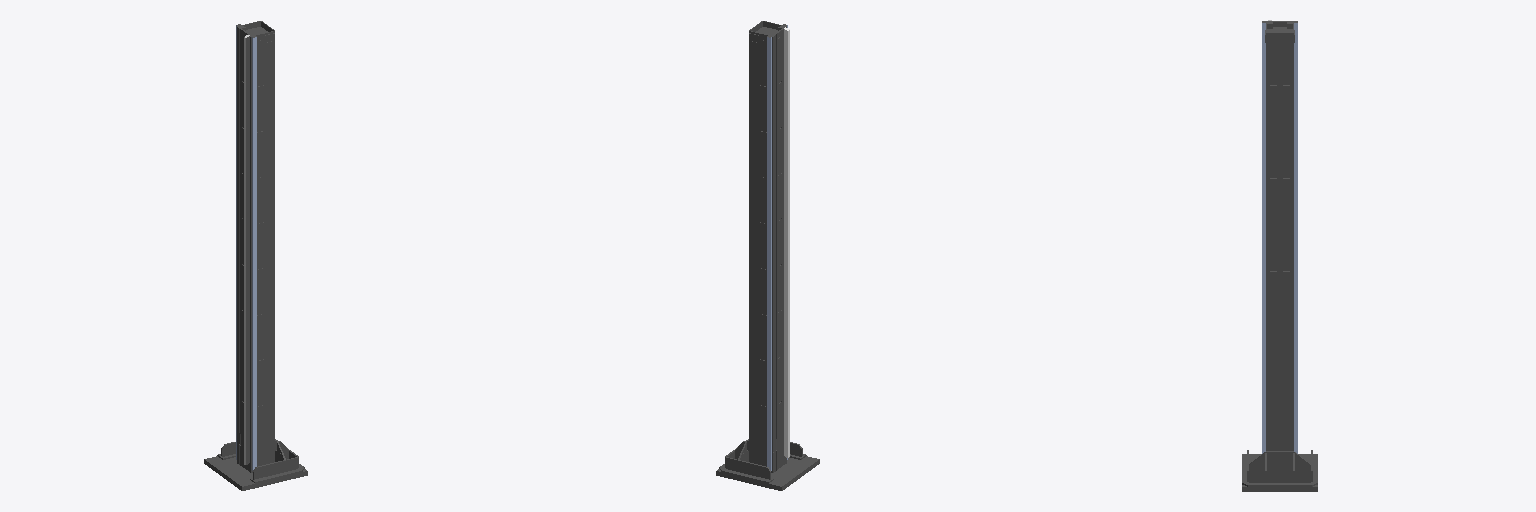
The robot description file, URDF, robot "mimic_slave":
<?xml version="1.0" ?>
<!-- =================================================================================== -->
<!-- |    This document was autogenerated by xacro from src/mimic_support/urdf/slave.xacro | -->
<!-- |    EDITING THIS FILE BY HAND IS NOT RECOMMENDED                                 | -->
<!-- =================================================================================== -->
<robot name="mimic_slave">
  <!-- LINKS -->
  <link name="gantry_frame">
    <visual>
      <origin rpy="0 0 0" xyz="0 0 0"/>
      <geometry>
        <mesh filename="package://mimic_support/meshes/visual/gantry_fixed.dae"/>
      </geometry>
    </visual>
    <collision>
      <origin rpy="0 0 0" xyz="0 0 0"/>
      <geometry>
        <mesh filename="package://mimic_support/meshes/collision/gantry_fixed.stl"/>
      </geometry>
    </collision>
  </link>
  <link name="gantry_x">
    <inertial>
      <origin rpy="0 0 0" xyz="0 0 0"/>
      <mass value="2"/>
      <inertia ixx="0.01" ixy="0" ixz="0" iyy="0.01" iyz="0" izz="0.01"/>
    </inertial>
    <visual>
      <origin rpy="0 0 0" xyz="0 0 0"/>
      <geometry>
        <mesh filename="package://mimic_support/meshes/visual/gantry_x.dae"/>
      </geometry>
    </visual>
    <collision>
      <origin rpy="0 0 0" xyz="0 0 0"/>
      <geometry>
        <mesh filename="package://mimic_support/meshes/collision/gantry_x.stl"/>
      </geometry>
    </collision>
  </link>
  <link name="gantry_y">
    <inertial>
      <origin rpy="0 0 0" xyz="0 0 0"/>
      <mass value="2"/>
      <inertia ixx="0.01" ixy="0" ixz="0" iyy="0.01" iyz="0" izz="0.01"/>
    </inertial>
    <visual>
      <origin rpy="0 0 0" xyz="0 0 0"/>
      <geometry>
        <mesh filename="package://mimic_support/meshes/visual/gantry_y.dae"/>
      </geometry>
    </visual>
    <collision>
      <origin rpy="0 0 0" xyz="0 0 0"/>
      <geometry>
        <mesh filename="package://mimic_support/meshes/collision/gantry_y.stl"/>
      </geometry>
    </collision>
  </link>
  <link name="gantry_z">
    <inertial>
      <origin rpy="0 0 0" xyz="0 0 0"/>
      <mass value="2"/>
      <inertia ixx="0.01" ixy="0" ixz="0" iyy="0.01" iyz="0" izz="0.01"/>
    </inertial>
    <visual>
      <origin rpy="0 0 0" xyz="0 0 0"/>
      <geometry>
        <mesh filename="package://mimic_support/meshes/visual/gantry_z.dae"/>
      </geometry>
    </visual>
    <collision>
      <origin rpy="0 0 0" xyz="0 0 0"/>
      <geometry>
        <mesh filename="package://mimic_support/meshes/collision/gantry_z.stl"/>
      </geometry>
    </collision>
  </link>
  <!-- JOINTS -->
  <!-- joint e1 (E1) -->
  <joint name="joint_e1" type="prismatic">
    <origin rpy="0 0 0" xyz="0.011 0 0"/>
    <parent link="gantry_frame"/>
    <child link="gantry_x"/>
    <axis xyz="1 0 0"/>
    <limit effort="12" lower="-0.011" upper="3.0" velocity="0.1"/>
  </joint>
  <joint name="joint_e2" type="prismatic">
    <origin rpy="0 0 0" xyz="0 0.015 0"/>
    <parent link="gantry_x"/>
    <child link="gantry_y"/>
    <axis xyz="0 1 0"/>
    <limit effort="25" lower="-0.015" upper="2.25" velocity="0.4"/>
  </joint>
  <joint name="joint_e3" type="prismatic">
    <origin rpy="0 0 0" xyz="0 0 0.011"/>
    <parent link="gantry_y"/>
    <child link="gantry_z"/>
    <axis xyz="0 0 -1"/>
    <limit effort="79" lower="-0.011" upper="2.6" velocity="0.1"/>
  </joint>
  <!-- LINKS -->
  <!-- base link -->
  <link name="base_link">
    <inertial>
      <origin rpy="0 0 0" xyz="0 0 0"/>
      <mass value="2500"/>
      <inertia ixx="0.01" ixy="0" ixz="0" iyy="0.01" iyz="0" izz="0.01"/>
    </inertial>
    <visual>
      <origin rpy="0 0 0" xyz="0 0 0"/>
      <geometry>
        <mesh filename="package://kuka_kr16_support/meshes/kr16_2/visual/base_link.dae"/>
      </geometry>
    </visual>
    <collision>
      <origin rpy="0 0 0" xyz="0 0 0"/>
      <geometry>
        <mesh filename="package://kuka_kr16_support/meshes/kr16_2/collision/base_link.stl"/>
      </geometry>
    </collision>
  </link>
  <!-- link 1 (A1) -->
  <link name="link_1">
    <inertial>
      <origin rpy="0 0 0" xyz="0 0 0"/>
      <mass value="2"/>
      <inertia ixx="0.01" ixy="0" ixz="0" iyy="0.01" iyz="0" izz="0.01"/>
    </inertial>
    <visual>
      <origin rpy="0 0 0" xyz="0 0 0"/>
      <geometry>
        <mesh filename="package://kuka_kr16_support/meshes/kr16_2/visual/link_1.dae"/>
      </geometry>
    </visual>
    <collision>
      <origin rpy="0 0 0" xyz="0 0 0"/>
      <geometry>
        <mesh filename="package://kuka_kr16_support/meshes/kr16_2/collision/link_1.stl"/>
      </geometry>
    </collision>
  </link>
  <!-- link 2 -->
  <link name="link_2">
    <inertial>
      <origin rpy="0 0 0" xyz="0 0 0"/>
      <mass value="2"/>
      <inertia ixx="0.01" ixy="0" ixz="0" iyy="0.01" iyz="0" izz="0.01"/>
    </inertial>
    <visual>
      <origin rpy="0 0 0" xyz="0 0 0"/>
      <geometry>
        <mesh filename="package://kuka_kr16_support/meshes/kr16_2/visual/link_2.dae"/>
      </geometry>
    </visual>
    <collision>
      <origin rpy="0 0 0" xyz="0 0 0"/>
      <geometry>
        <mesh filename="package://kuka_kr16_support/meshes/kr16_2/collision/link_2.stl"/>
      </geometry>
    </collision>
  </link>
  <!-- link 3 -->
  <link name="link_3">
    <inertial>
      <origin rpy="0 0 0" xyz="0 0 0"/>
      <mass value="2"/>
      <inertia ixx="0.01" ixy="0" ixz="0" iyy="0.01" iyz="0" izz="0.01"/>
    </inertial>
    <visual>
      <origin rpy="0 0 0" xyz="0 0 0"/>
      <geometry>
        <mesh filename="package://kuka_kr16_support/meshes/kr16_2/visual/link_3.dae"/>
      </geometry>
    </visual>
    <collision>
      <origin rpy="0 0 0" xyz="0 0 0"/>
      <geometry>
        <mesh filename="package://kuka_kr16_support/meshes/kr16_2/collision/link_3.stl"/>
      </geometry>
    </collision>
  </link>
  <!-- link 4 -->
  <link name="link_4">
    <inertial>
      <origin rpy="0 0 0" xyz="0 0 0"/>
      <mass value="2"/>
      <inertia ixx="0.01" ixy="0" ixz="0" iyy="0.01" iyz="0" izz="0.01"/>
    </inertial>
    <visual>
      <origin rpy="0 0 0" xyz="0 0 0"/>
      <geometry>
        <mesh filename="package://kuka_kr16_support/meshes/kr16_2/visual/link_4.dae"/>
      </geometry>
    </visual>
    <collision>
      <origin rpy="0 0 0" xyz="0 0 0"/>
      <geometry>
        <mesh filename="package://kuka_kr16_support/meshes/kr16_2/collision/link_4.stl"/>
      </geometry>
    </collision>
  </link>
  <!-- link 5 -->
  <link name="link_5">
    <inertial>
      <origin rpy="0 0 0" xyz="0 0 0"/>
      <mass value="2"/>
      <inertia ixx="0.01" ixy="0" ixz="0" iyy="0.01" iyz="0" izz="0.01"/>
    </inertial>
    <visual>
      <origin rpy="0 0 0" xyz="0 0 0"/>
      <geometry>
        <mesh filename="package://kuka_kr16_support/meshes/kr16_2/visual/link_5.dae"/>
      </geometry>
    </visual>
    <collision>
      <origin rpy="0 0 0" xyz="0 0 0"/>
      <geometry>
        <mesh filename="package://kuka_kr16_support/meshes/kr16_2/collision/link_5.stl"/>
      </geometry>
    </collision>
  </link>
  <!-- link 6 -->
  <link name="link_6">
    <inertial>
      <origin rpy="0 0 0" xyz="0 0 0"/>
      <mass value="2"/>
      <inertia ixx="0.01" ixy="0" ixz="0" iyy="0.01" iyz="0" izz="0.01"/>
    </inertial>
    <visual>
      <origin rpy="0 0 0" xyz="0 0 0"/>
      <geometry>
        <mesh filename="package://kuka_kr16_support/meshes/kr16_2/visual/link_6.dae"/>
      </geometry>
    </visual>
    <collision>
      <origin rpy="0 0 0" xyz="0 0 0"/>
      <geometry>
        <mesh filename="package://kuka_kr16_support/meshes/kr16_2/collision/link_6.stl"/>
      </geometry>
    </collision>
  </link>
  <!-- tool 0 -->
  <!-- Following REP199, this frame shall be use to attach EEF or other equipment -->
  <link name="flange"/>
  <!-- END LINKS -->
  <!-- JOINTS -->
  <!-- joint 1 (A1) -->
  <joint name="joint_a1" type="revolute">
    <origin rpy="0 0 0" xyz="0 0 0.675"/>
    <parent link="base_link"/>
    <child link="link_1"/>
    <axis xyz="0 0 -1"/>
    <limit effort="2500" lower="-3.2288591161895095" upper="3.2288591161895095" velocity="2.722713633111154"/>
  </joint>
  <!-- joint 2 (A2) -->
  <joint name="joint_a2" type="revolute">
    <origin rpy="0 0 0" xyz="0.26 0 0"/>
    <parent link="link_1"/>
    <child link="link_2"/>
    <axis xyz="0 1 0"/>
    <limit effort="3100" lower="-2.705260340591211" upper="0.6108652381980153" velocity="2.722713633111154"/>
  </joint>
  <!-- joint 3 (A3) -->
  <joint name="joint_a3" type="revolute">
    <origin rpy="0 0 0" xyz="0.68 0 0"/>
    <parent link="link_2"/>
    <child link="link_3"/>
    <axis xyz="0 1 0"/>
    <limit effort="2200" lower="-2.2689280275926285" upper="2.6878070480712677" velocity="2.722713633111154"/>
  </joint>
  <!-- joint 4 (A4) -->
  <joint name="joint_a4" type="revolute">
    <origin rpy="0 0 0" xyz="0.67 0 -0.035"/>
    <parent link="link_3"/>
    <child link="link_4"/>
    <axis xyz="-1 0 0"/>
    <limit effort="500" lower="-6.1086523819801535" upper="6.1086523819801535" velocity="5.759586531581287"/>
  </joint>
  <!-- joint 5 (A5) -->
  <joint name="joint_a5" type="revolute">
    <origin rpy="0 0 0" xyz="0 0 0"/>
    <parent link="link_4"/>
    <child link="link_5"/>
    <axis xyz="0 1 0"/>
    <limit effort="500" lower="-2.2689280275926285" upper="2.2689280275926285" velocity="5.759586531581287"/>
  </joint>
  <!-- joint 6 (A6) -->
  <joint name="joint_a6" type="revolute">
    <origin rpy="0 0 0" xyz="0 0 0"/>
    <parent link="link_5"/>
    <child link="link_6"/>
    <axis xyz="-1 0 0"/>
    <limit effort="150" lower="-6.1086523819801535" upper="6.1086523819801535" velocity="10.733774899765127"/>
  </joint>
  <!-- tool frame - fixed frame -->
  <joint name="joint_a6-flange" type="fixed">
    <parent link="link_6"/>
    <child link="flange"/>
    <origin rpy="0 0 0" xyz="0.158 0 0"/>
  </joint>
  <!-- END JOINTS -->
  <!-- ROS base_link to KUKA $ROBROOT coordinate system transform -->
  <link name="base"/>
  <joint name="base_link-base" type="fixed">
    <origin rpy="0 0 0" xyz="0 0 0"/>
    <parent link="base_link"/>
    <child link="base"/>
  </joint>
  <!-- This frame corresponds to the $TOOL coordinate system in KUKA KRC controllers -->
  <link name="tool0"/>
  <joint name="flange-tool0" type="fixed">
    <parent link="flange"/>
    <child link="tool0"/>
    <origin rpy="0 1.5707963267948966 0" xyz="0 0 0"/>
  </joint>
  <link name="slave_base_link"/>
  <link name="ktig_eef">
    <inertial>
      <origin rpy="0 0 0" xyz="0 0 0"/>
      <mass value="2"/>
      <inertia ixx="0.01" ixy="0" ixz="0" iyy="0.01" iyz="0" izz="0.01"/>
    </inertial>
    <visual>
      <origin rpy="0 0 0" xyz="0 0 0"/>
      <geometry>
        <mesh filename="package://mimic_support/meshes/visual/tig_eef.dae" scale="1 1 1"/>
      </geometry>
    </visual>
    <collision>
      <origin rpy="0 0 0" xyz="0 0 0"/>
      <geometry>
        <mesh filename="package://mimic_support/meshes/collision/tig_eef.stl" scale="1 1 1"/>
      </geometry>
    </collision>
  </link>
  <joint name="slave_base_link-gantry_joint" type="fixed">
    <parent link="slave_base_link"/>
    <child link="gantry_frame"/>
    <origin rpy="0.0 0.0 0.0" xyz="0.0 0.0 0.0"/>
  </joint>
  <joint name="gantry-kr16_joint" type="fixed">
    <parent link="gantry_z"/>
    <child link="base_link"/>
    <origin rpy="3.141592653589793 0.0 0.0" xyz="0.0 0.0 0.0"/>
  </joint>
  <joint name="kr16-ktig_joint" type="fixed">
    <parent link="tool0"/>
    <child link="ktig_eef"/>
    <origin rpy="-3.1347858695070157 -0.722391777400453 -2.68693438344527" xyz="0.0811 0.04116 0.4408"/>
  </joint>
</robot>

--- Render facts (derived) ---
3 views of the same robot in one strip: view 1: azimuth 30°, elevation 25°; view 2: azimuth 150°, elevation 25°; view 3: azimuth 270°, elevation 25° (orthographic).
Robot: mimic_slave — 16 links, 15 joints (6 revolute, 3 prismatic, 6 fixed); root link slave_base_link; default pose: all joints at 0.
Links seen in each view (by area): view 1: gantry_z; view 2: gantry_z; view 3: gantry_z.
Boxes of the visible links, x1,y1,x2,y2 form: gantry_z: (204, 21, 307, 490); gantry_z: (716, 21, 819, 490); gantry_z: (1242, 20, 1317, 491).
Size in the robot's own frame: 0.6 by 0.6 by 3.86 metres.
Meshes: 12 distinct files referenced, 1 mesh visuals loaded (1 Collada DAE); not drawn: 11 (reference not matched to a file when rendering).